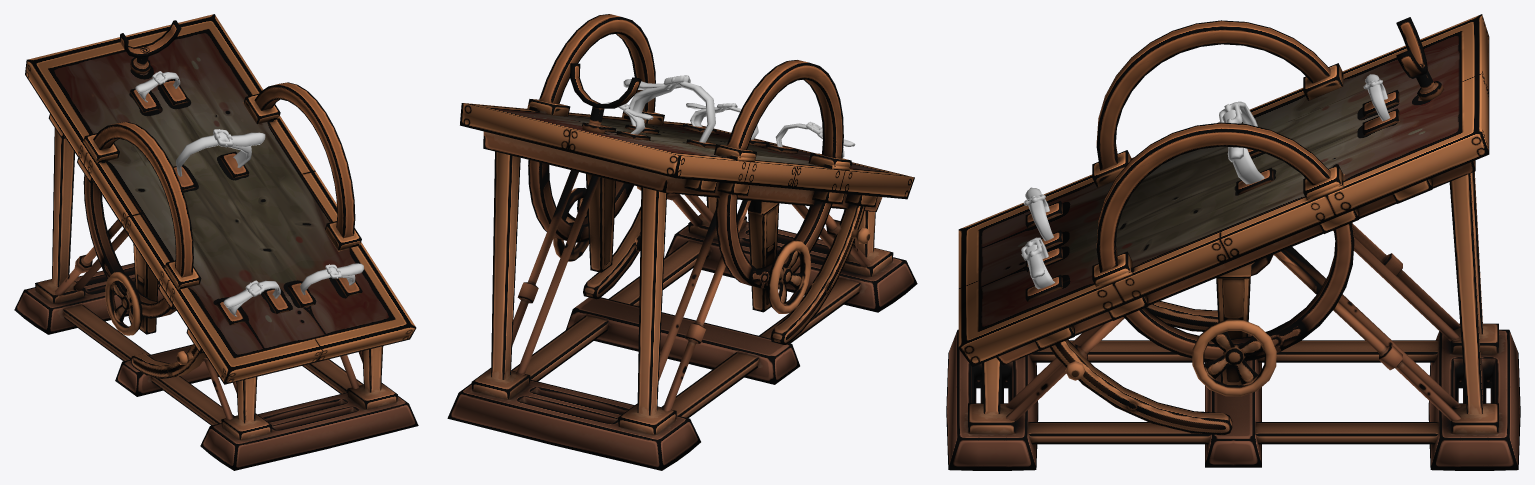
File: table_op2.fbx
3 renders of one model, left to right at view 1: azimuth 30°, elevation 25°; view 2: azimuth 150°, elevation 25°; view 3: azimuth 270°, elevation 25°, orthographic. The views are drawn at different scales.
Visible parts, largest first — view 1: table_op2; view 2: table_op2; view 3: table_op2.
Boxes of the visible parts, x1,y1,x2,y2 form: table_op2: (14, 14, 418, 470); table_op2: (447, 14, 917, 470); table_op2: (946, 14, 1520, 470).
Bounding box in the file's own units: 230 × 323 × 446.
